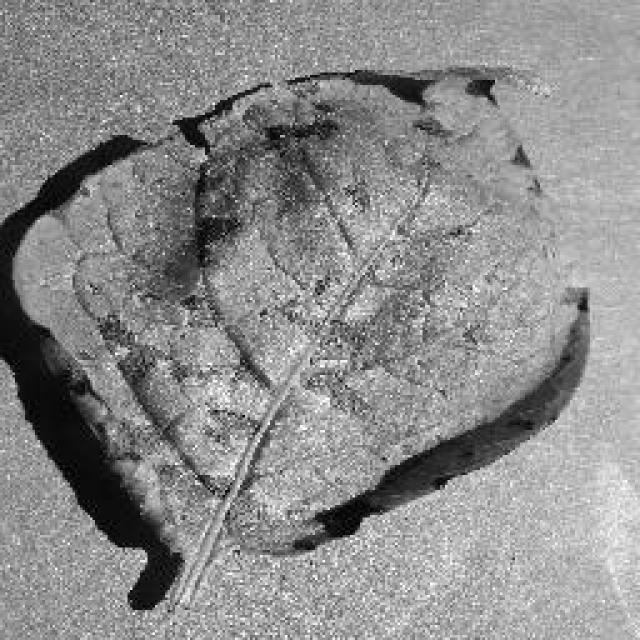Potato: (0, 62, 592, 607)
